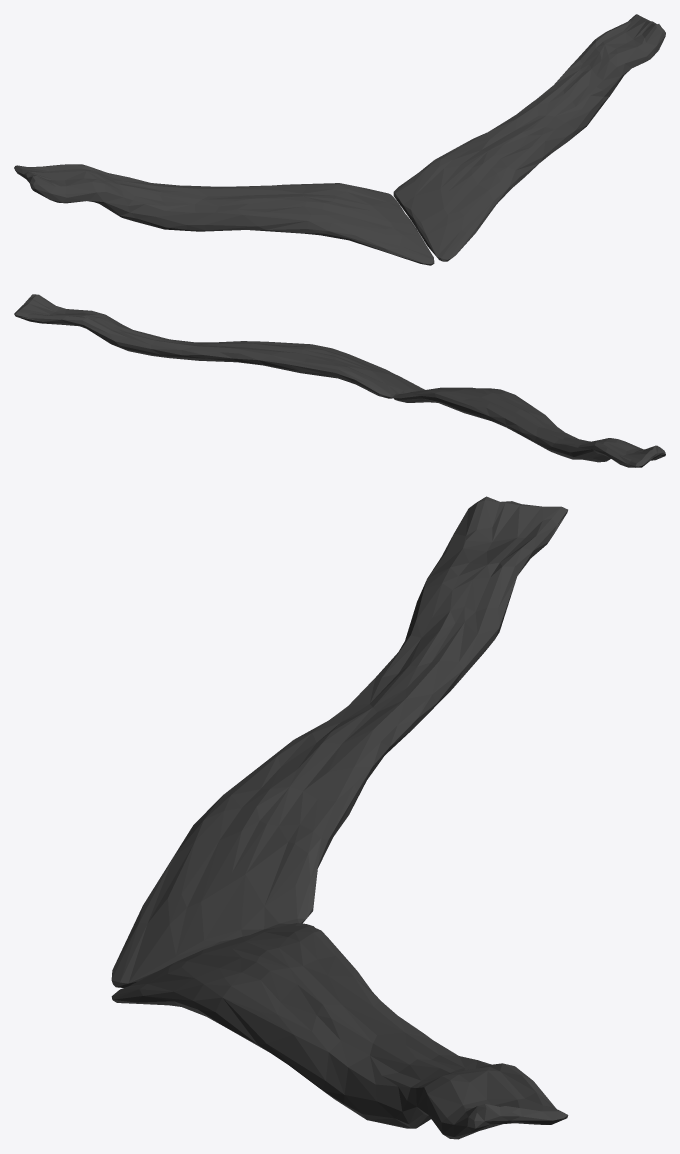
File: m_parietoauricularis.glb
The picture shows the model from 3 angles, top to bottom: view 1: azimuth 30°, elevation 25°; view 2: azimuth 150°, elevation 25°; view 3: azimuth 270°, elevation 25°; orthographic projection. The views are drawn at different scales.
Parts seen in each view (by area): view 1: m_parietoauricularis; view 2: m_parietoauricularis; view 3: m_parietoauricularis.
Boxes of the visible parts, x1,y1,x2,y2 form: m_parietoauricularis: [14, 14, 665, 265]; m_parietoauricularis: [14, 294, 665, 467]; m_parietoauricularis: [111, 496, 568, 1139].
Bounding box in the file's own units: 0.00125 × 0.000179 × 0.00039.
Materials: 1 (1 with a texture image).
